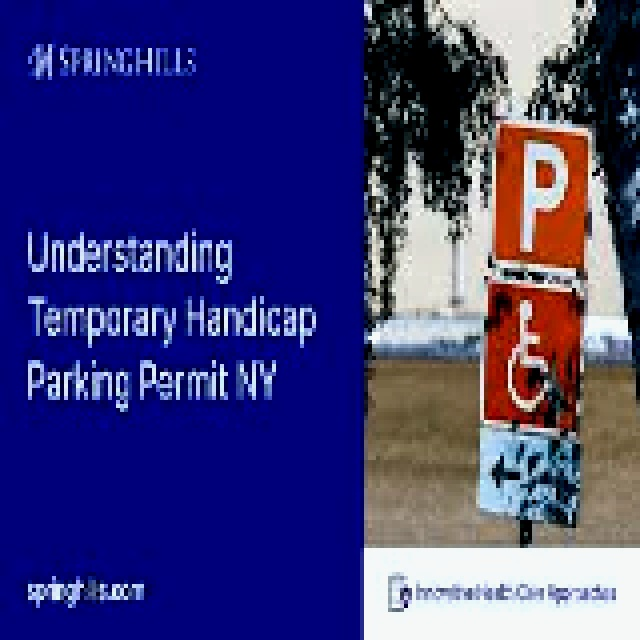ISA: (505, 297, 561, 412)
